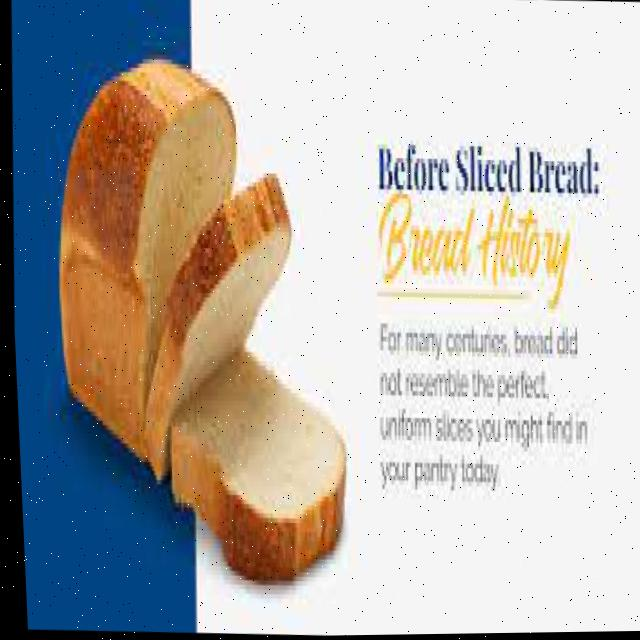Bread: (167, 352, 340, 580)
